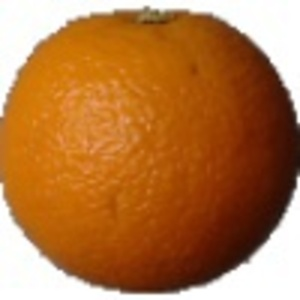laranja: (3, 4, 295, 296)
